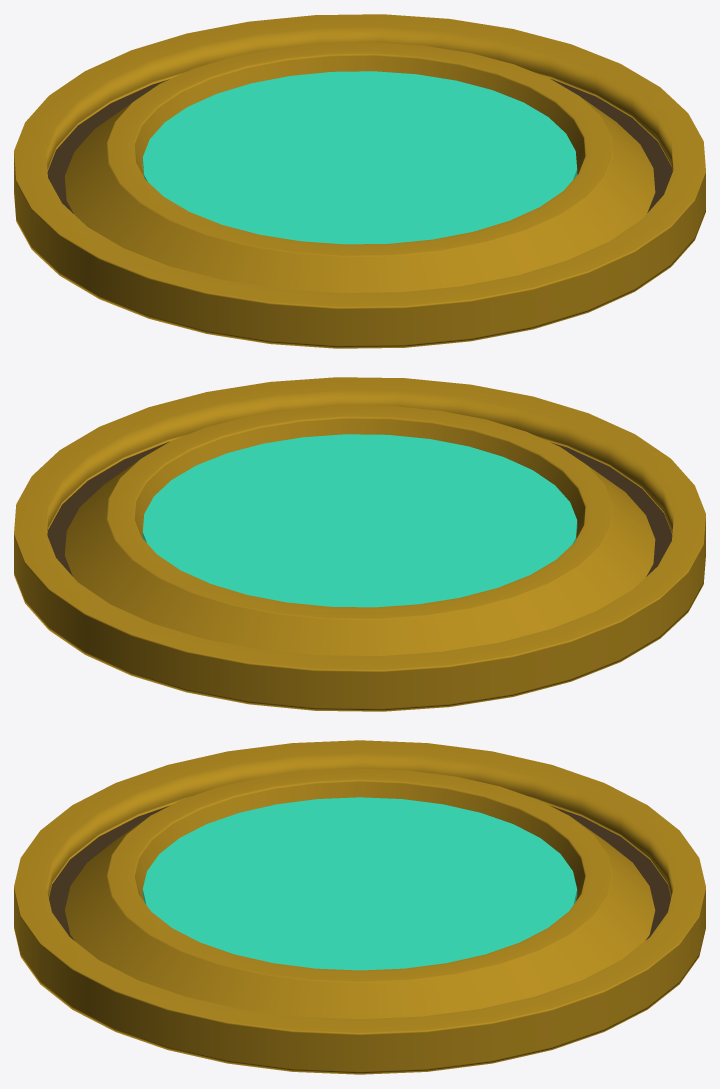
File: checkpoint biru.fbx
The picture shows the model from 3 angles, top to bottom: view 1: azimuth 30°, elevation 25°; view 2: azimuth 150°, elevation 25°; view 3: azimuth 270°, elevation 25°; orthographic projection.
Visible parts, largest first — view 1: Cylinder, Cylinder.001, Cylinder.002; view 2: Cylinder, Cylinder.001, Cylinder.002; view 3: Cylinder, Cylinder.001, Cylinder.002.
Boxes of the visible parts, left/top/right/bottom form: Cylinder: left=14, top=14, right=705, bottom=348; Cylinder.001: left=142, top=71, right=577, bottom=244; Cylinder.002: left=64, top=42, right=655, bottom=292; Cylinder: left=14, top=377, right=705, bottom=711; Cylinder.001: left=142, top=434, right=577, bottom=607; Cylinder.002: left=64, top=405, right=655, bottom=655; Cylinder: left=14, top=740, right=705, bottom=1074; Cylinder.001: left=142, top=797, right=577, bottom=970; Cylinder.002: left=64, top=768, right=655, bottom=1018.
Bounding box in the file's own units: 332 × 28.35 × 332.
Materials: 1 (1 with a texture image).
